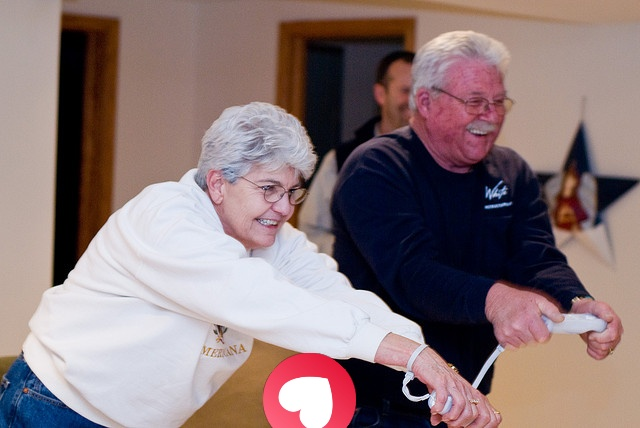love: (263, 353, 356, 428)
